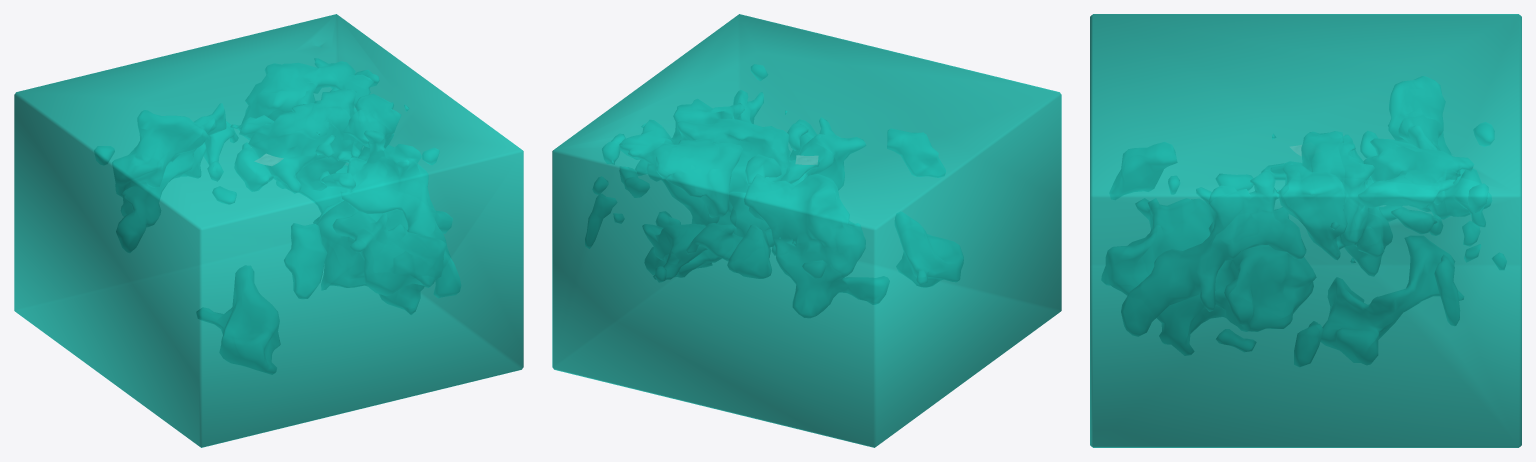
The picture shows the model from 3 angles, left to right: view 1: azimuth 30°, elevation 25°; view 2: azimuth 150°, elevation 25°; view 3: azimuth 270°, elevation 25°; orthographic projection. The views are drawn at different scales.
Parts seen in each view (by area): view 1: Liquid_Domain; view 2: Liquid_Domain; view 3: Liquid_Domain.
Part boxes in pixels (bbox=[...]): Liquid_Domain: bbox=[14, 14, 523, 447]; Liquid_Domain: bbox=[552, 14, 1061, 447]; Liquid_Domain: bbox=[1090, 14, 1521, 447].
Bounding box in the file's own units: 391 × 254 × 391.
